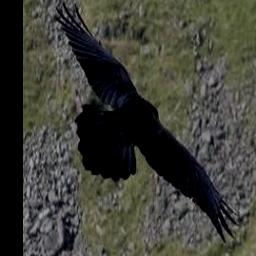Crow: (54, 2, 240, 244)
